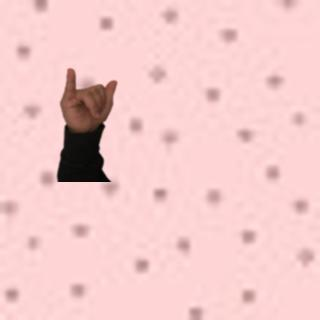HAVE: (54, 63, 126, 139)
